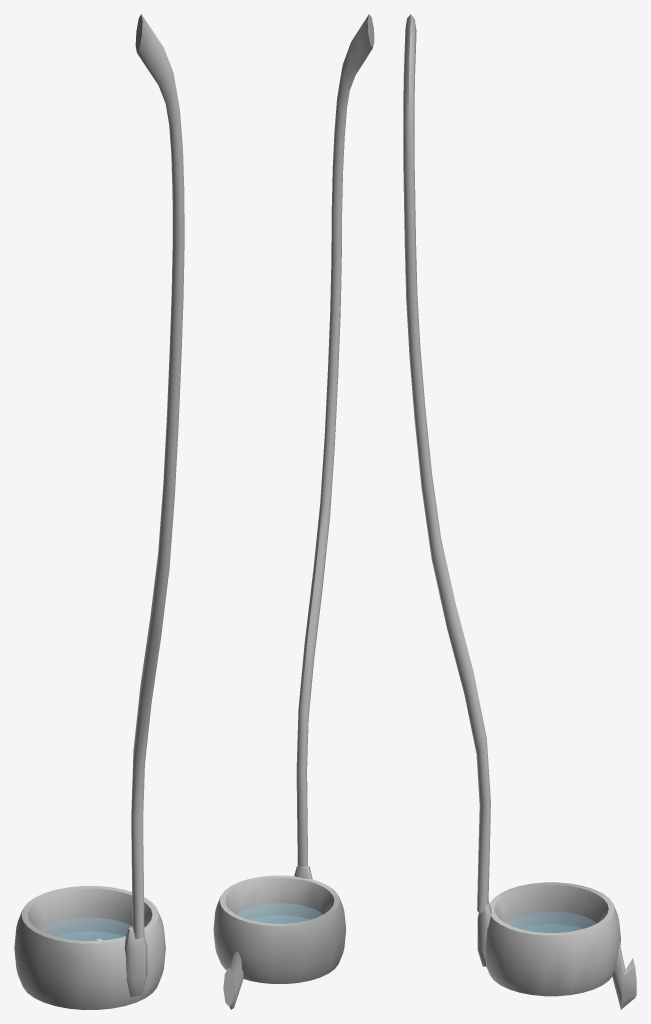
File: SM_Crew_GlassR.fbx
3 views of the same model, side by side, from view 1: azimuth 30°, elevation 25°; view 2: azimuth 150°, elevation 25°; view 3: azimuth 270°, elevation 25° (orthographic). The views are drawn at different scales.
Parts seen in each view (by area): view 1: SM_Crew_GlassR; view 2: SM_Crew_GlassR; view 3: SM_Crew_GlassR.
Boxes of the visible parts, box(x1,y1,x2,y2) form: SM_Crew_GlassR: box(14, 14, 184, 1009); SM_Crew_GlassR: box(213, 14, 374, 1009); SM_Crew_GlassR: box(403, 14, 636, 1009).
Bounding box in the file's own units: 95.08 × 741 × 161.
